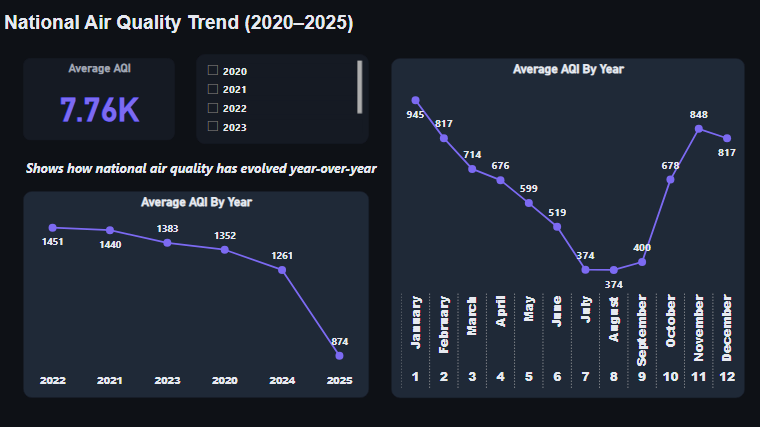

The page's visual inventory and layout, read from the dashboard file:
{"tool":"powerbi","page":{"name":"National AQI Overview","canvas":[1280,720],"ordinal":0},"visuals":[{"type":"textbox","box":[8.8,19.1,975.7,57.3],"z":0},{"type":"textbox","box":[45,263.3,613.3,46.7],"z":1000},{"type":"lineChart","title":"Average AQI By Year","fields":{"Y":["Sum(public vw_monthly_aqi_trend.avg_aqi)"],"Category":["public vw_monthly_aqi_trend.month_num","public vw_monthly_aqi_trend.month"]},"box":[658.3,100,590,566.7],"z":2000},{"type":"card","title":"Average AQI","fields":{"Values":["Sum(public vw_monthly_aqi_trend.avg_aqi)"]},"box":[45,100,253.3,136.7],"z":3000},{"type":"slicer","fields":{"Values":["public vw_monthly_aqi_trend.year"]},"box":[333.3,93.3,288.3,150],"z":4000},{"type":"lineChart","title":"Average AQI By Year","fields":{"Y":["Sum(public vw_monthly_aqi_trend.avg_aqi)"],"Category":["public vw_monthly_aqi_trend.year"]},"box":[45,321.7,576.7,345],"z":5000}]}

Visuals, with their boxes in screenshot pixels (x1, y1, x2, y2), scaled from the page's 1280x720 canvas onto the 760x427 screenshot:
textbox: select_region(5, 11, 585, 45)
textbox: select_region(27, 156, 391, 184)
"Average AQI By Year" lineChart: select_region(391, 59, 741, 395)
"Average AQI" card: select_region(27, 59, 177, 140)
slicer - public vw_monthly_aqi_trend.year: select_region(198, 55, 369, 144)
"Average AQI By Year" lineChart: select_region(27, 191, 369, 395)
